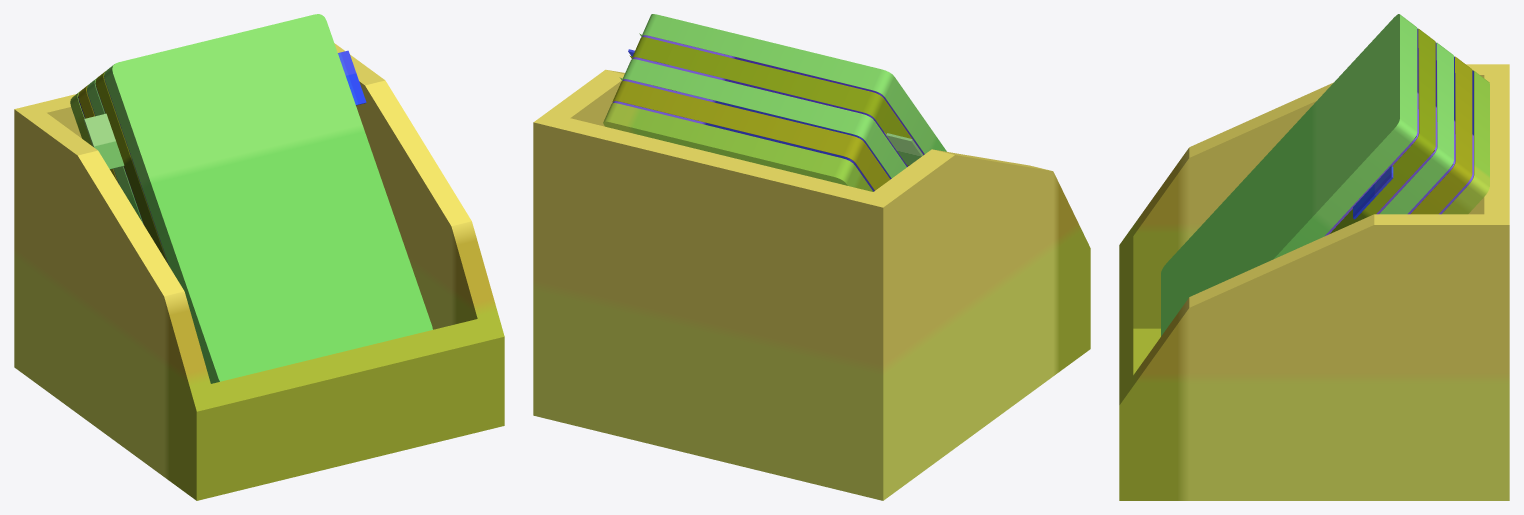
File: Office_Shelf_Document_Dummy_Box.fbx
The picture shows the model from 3 angles, left to right: view 1: azimuth 30°, elevation 25°; view 2: azimuth 150°, elevation 25°; view 3: azimuth 270°, elevation 25°; orthographic projection. The views are drawn at different scales.
Visible parts, largest first — view 1: Office_Shelf_Document_Dummy_Box; view 2: Office_Shelf_Document_Dummy_Box; view 3: Office_Shelf_Document_Dummy_Box.
Boxes of the visible parts, box(x1,y1,x2,y2) form: Office_Shelf_Document_Dummy_Box: box(14, 14, 504, 500); Office_Shelf_Document_Dummy_Box: box(533, 14, 1090, 500); Office_Shelf_Document_Dummy_Box: box(1119, 14, 1509, 500).
Bounding box in the file's own units: 23.75 × 24.3 × 24.39.
